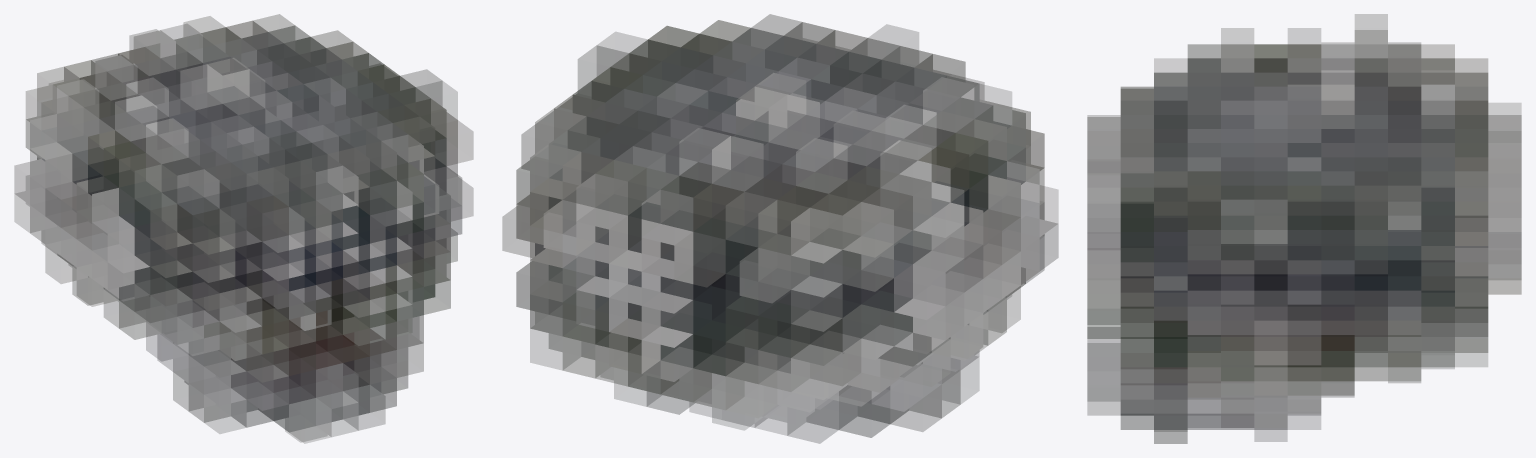
Rendered from iter_20.obj.
3 renders of one model, left to right at view 1: azimuth 30°, elevation 25°; view 2: azimuth 150°, elevation 25°; view 3: azimuth 270°, elevation 25°, orthographic. The views are drawn at different scales.
Visible parts, largest first — view 1: iter_20; view 2: iter_20; view 3: iter_20.
Part boxes in pixels (<box>): iter_20: <box>14,14,473,443</box>; iter_20: <box>502,14,1058,443</box>; iter_20: <box>1087,14,1521,443</box>.
Size of the model in its own units: 1.3 by 1.1 by 1.3.
